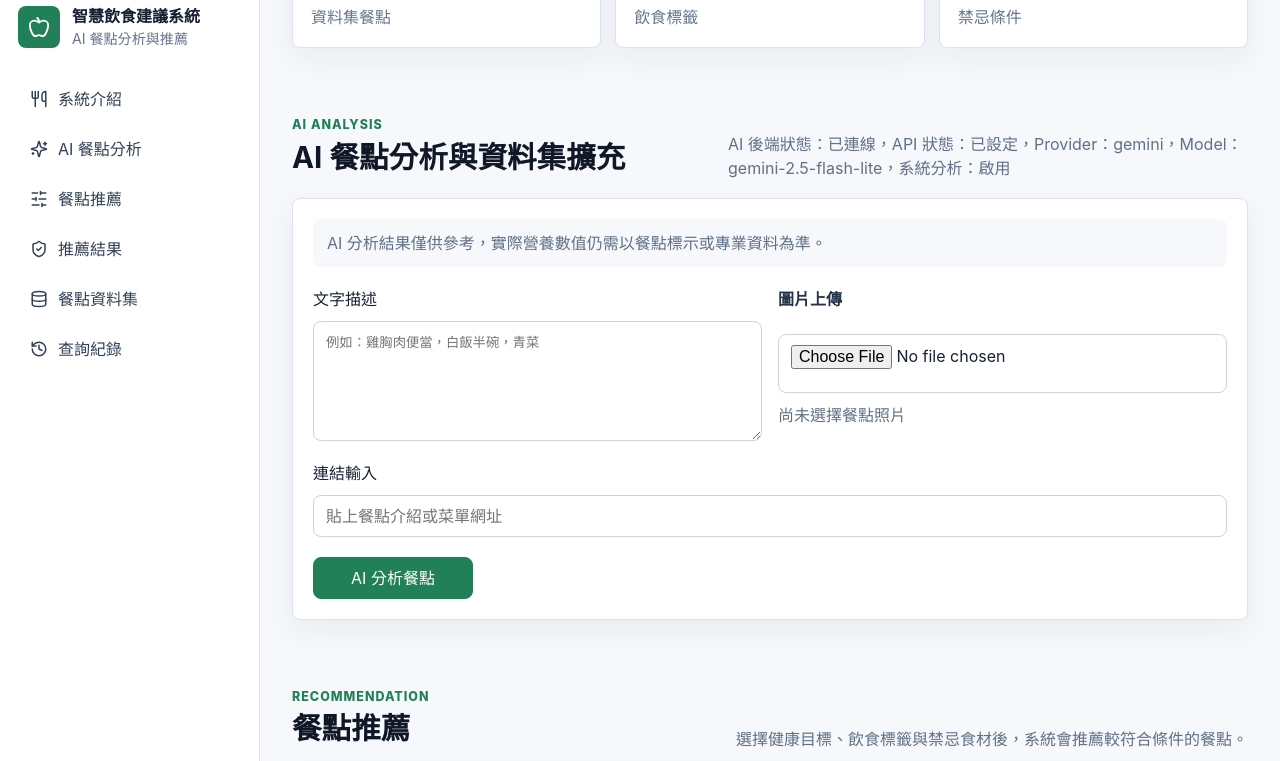
Test case: App › runs mocked AI text analysis and adds the result to the dataset
(page scrolled)
Type "茶葉蛋" into the text box labelled "文字描述". click: (538, 380)
box: [313,320,762,440]
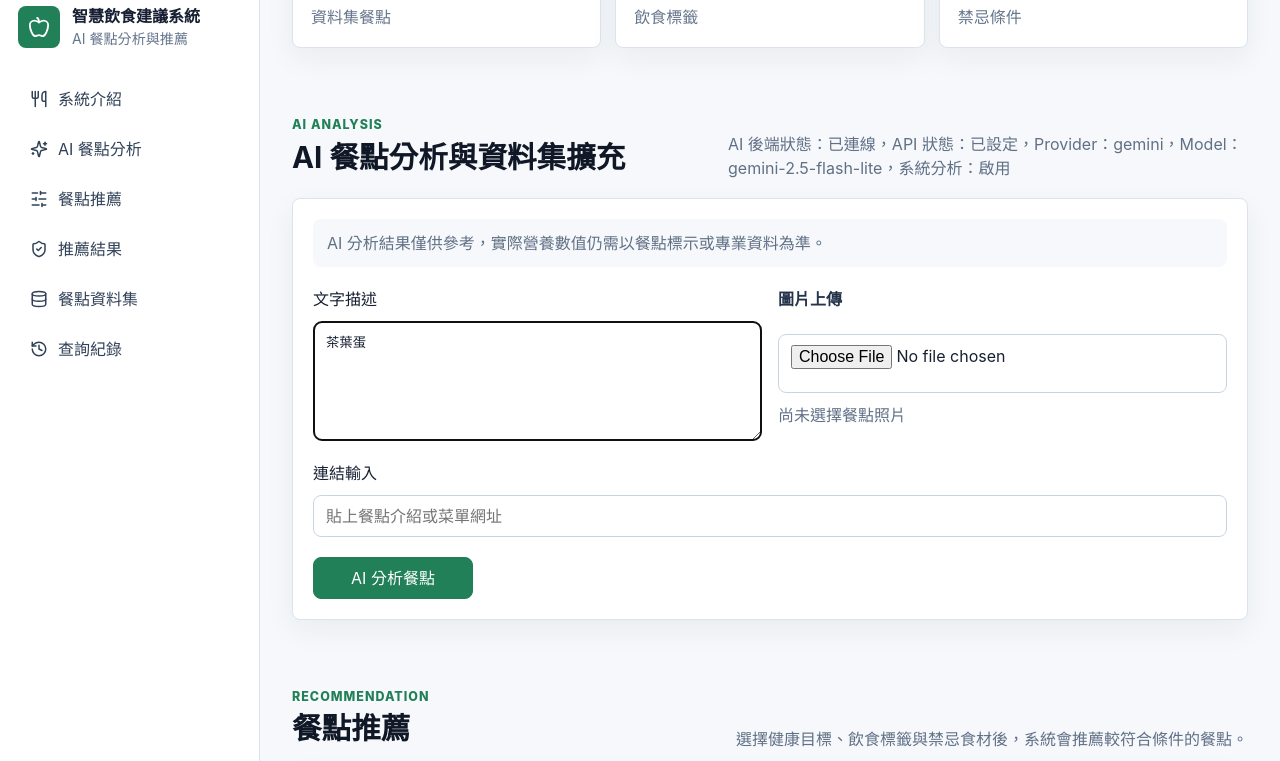
Click the button "AI 分析餐點". click: (393, 578)
box: [313,556,473,598]
(page scrolled)
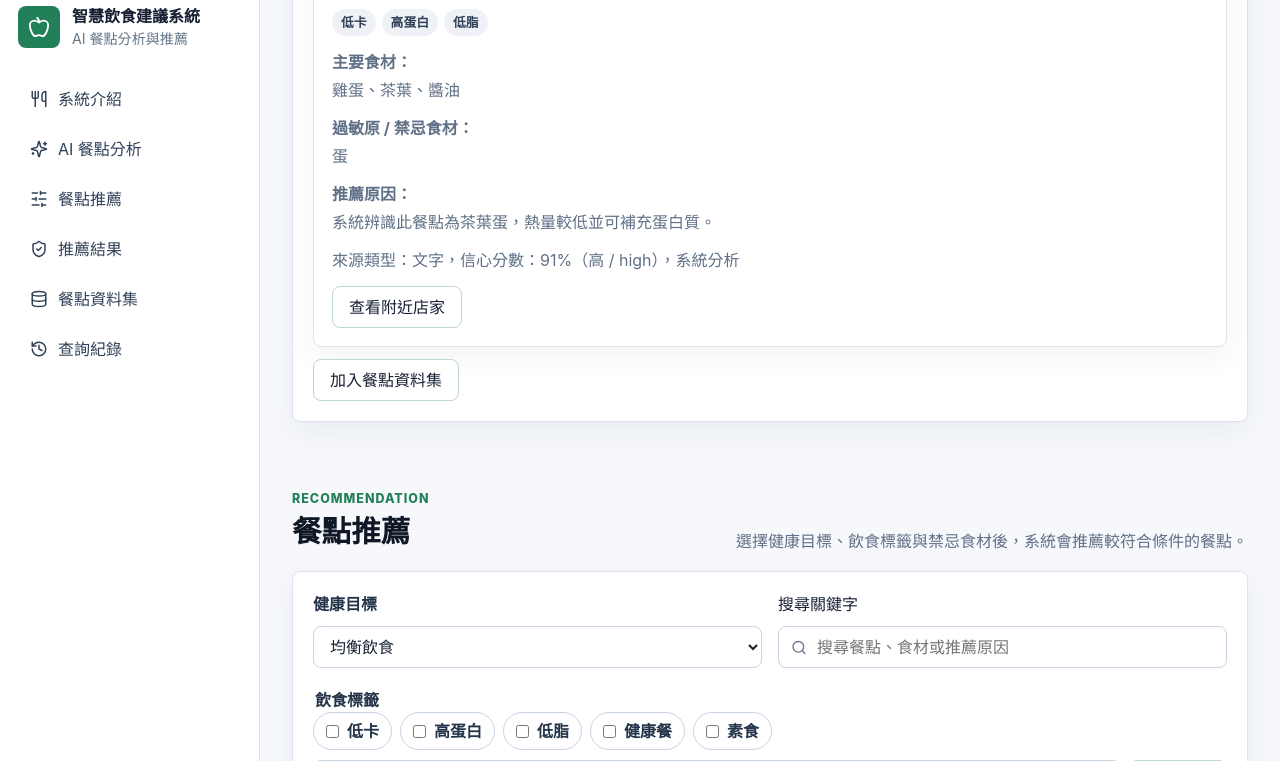
Click the button "加入餐點資料集". click: (386, 380)
box: [313,359,459,401]
(page scrolled)
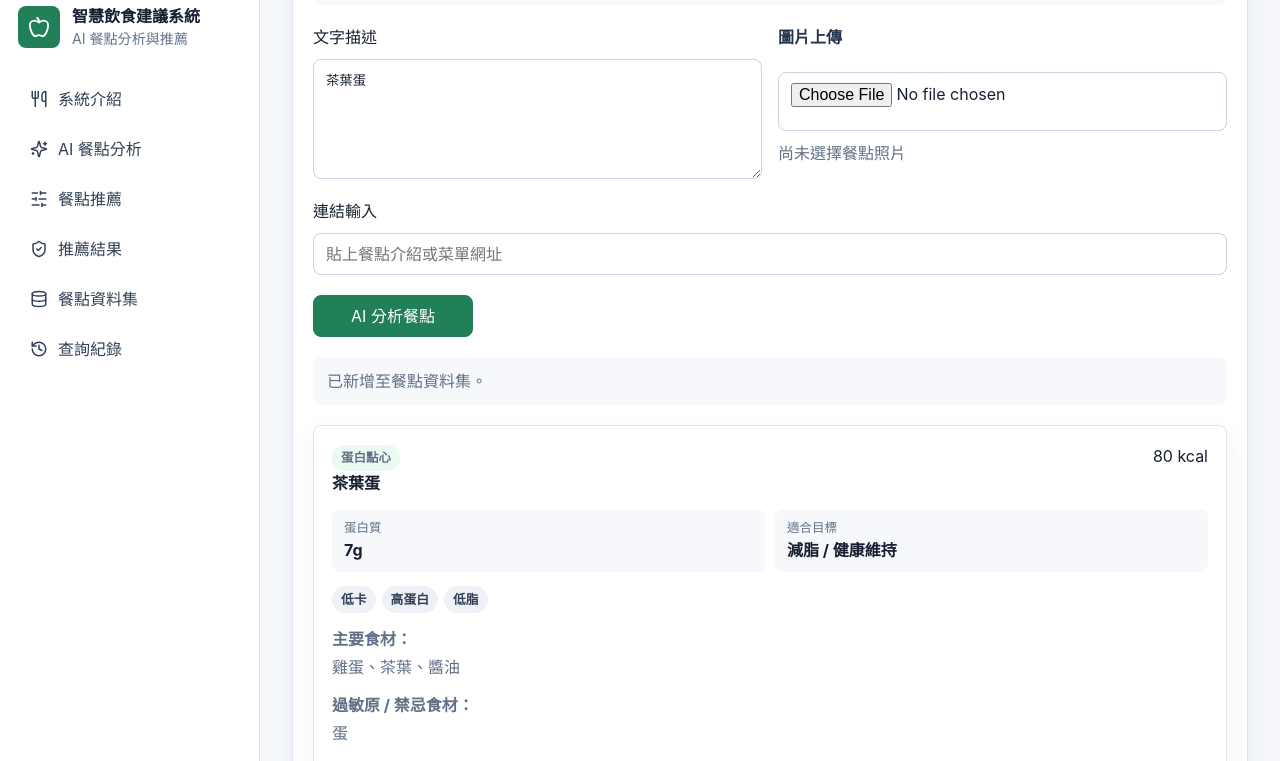
Expected: the text "已新增至餐點資料集。" is shown, [313,356,1227,404]
